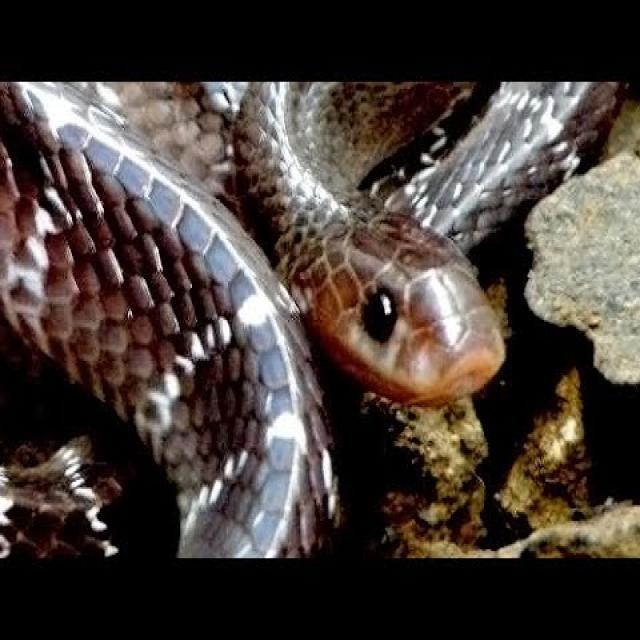Snake: (0, 85, 613, 557)
